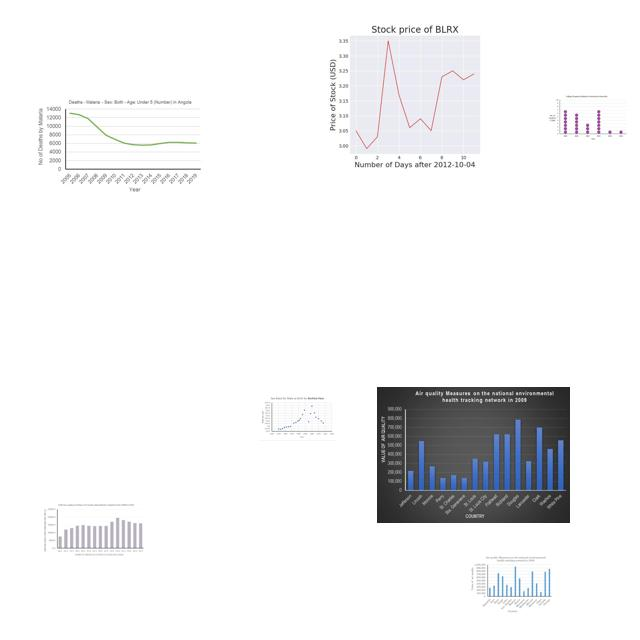Graph: (310, 17, 515, 171), (377, 387, 570, 523), (35, 96, 204, 195), (42, 502, 146, 558), (469, 555, 553, 614), (547, 94, 628, 142), (259, 395, 336, 441)
